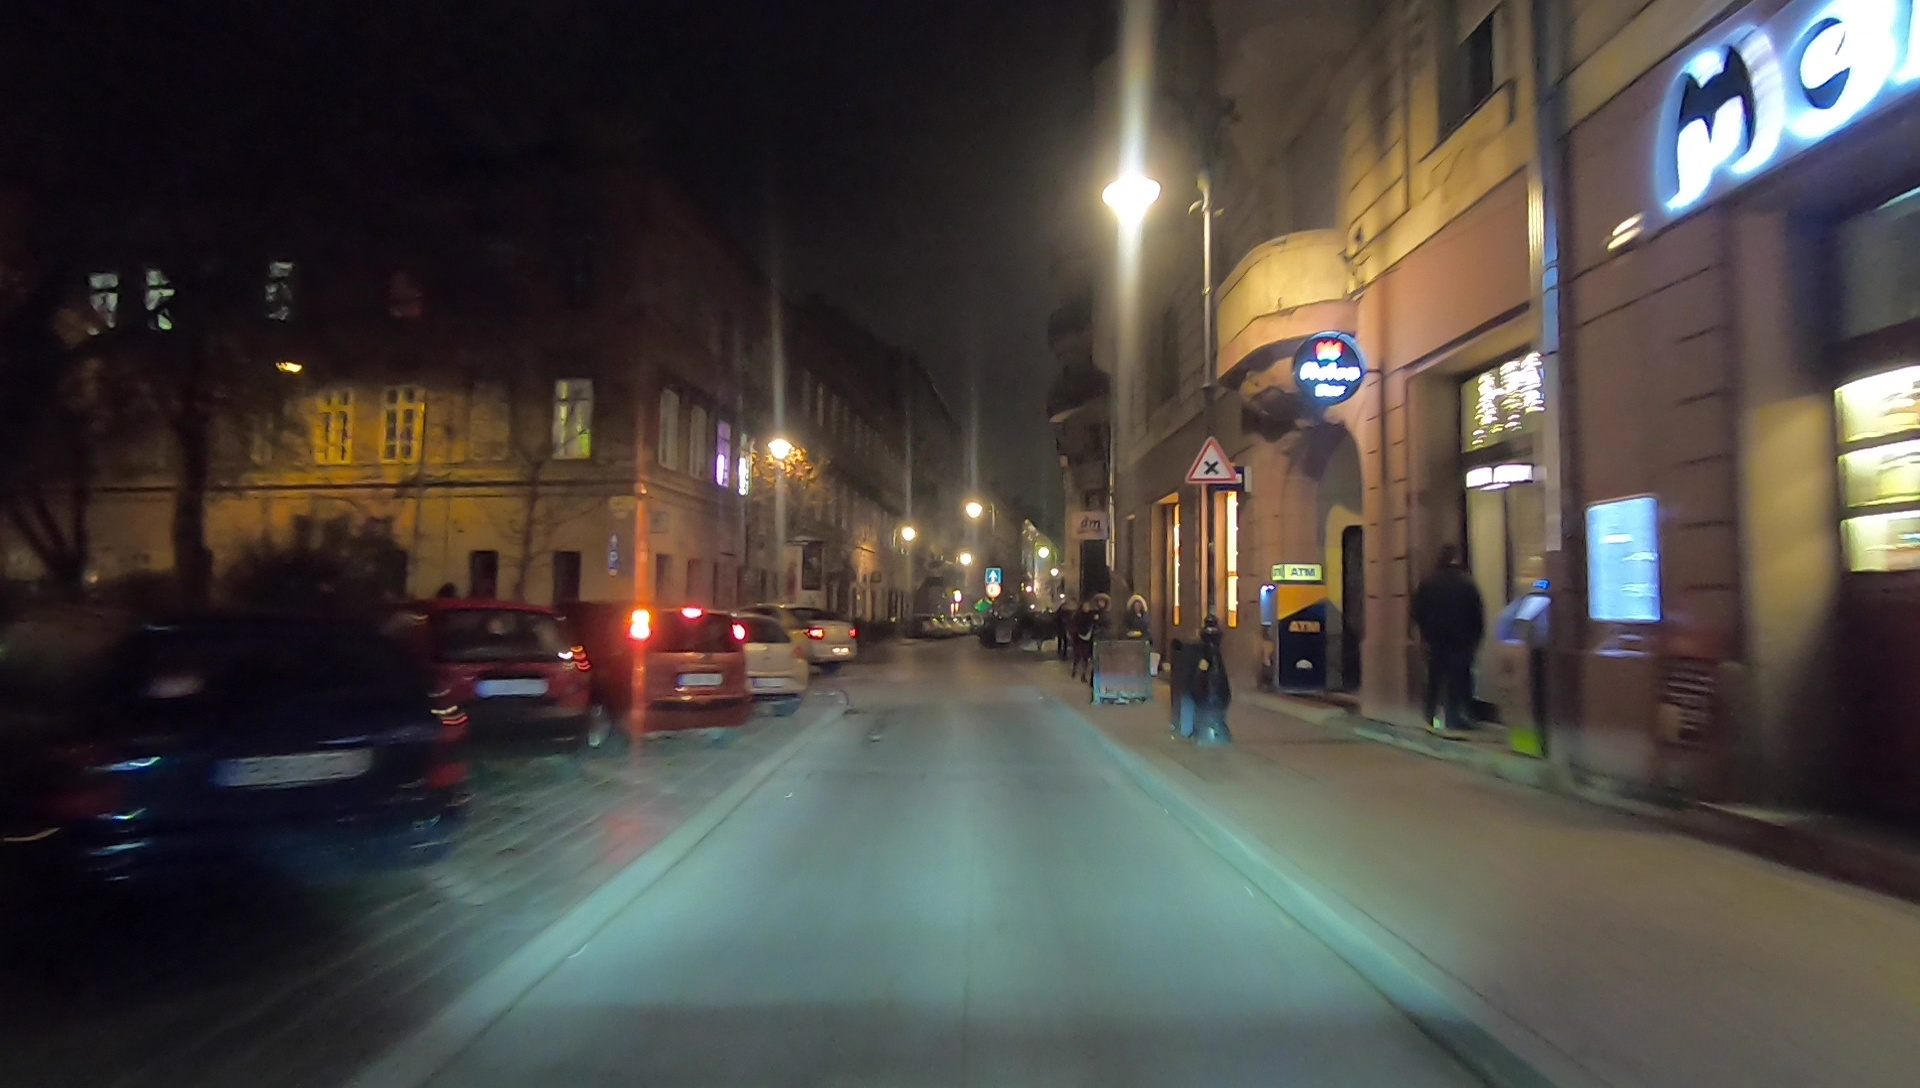person: (1414, 539, 1486, 736), (1125, 593, 1154, 676), (1086, 591, 1112, 676)
